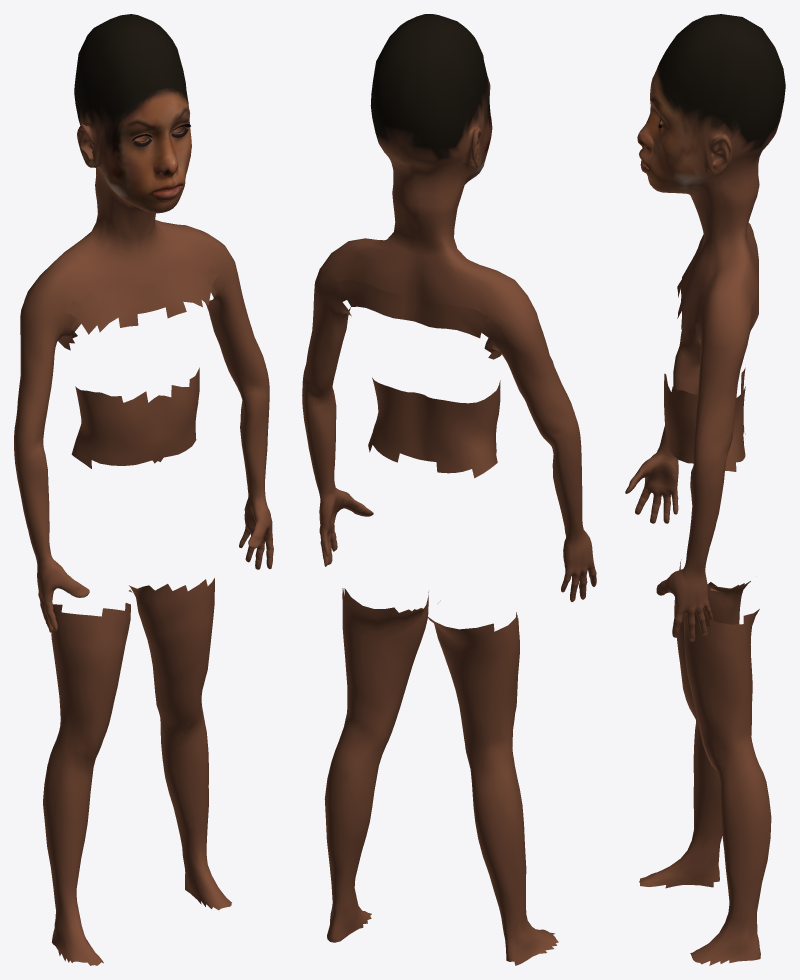
File: streetwaer.glb
The picture shows the model from 3 angles, left to right: view 1: azimuth 30°, elevation 25°; view 2: azimuth 150°, elevation 25°; view 3: azimuth 270°, elevation 25°; orthographic projection. The views are drawn at different scales.
Parts seen in each view (by area): view 1: Skin, TorsoUnderOuterwear; view 2: Skin, TorsoUnderOuterwear; view 3: Skin, TorsoUnderOuterwear.
Part boxes in pixels (x1=…): Skin: x1=14, y1=14, x2=273, y2=965; TorsoUnderOuterwear: x1=58, y1=266, x2=219, y2=468; Skin: x1=302, y1=14, x2=596, y2=965; TorsoUnderOuterwear: x1=337, y1=279, x2=501, y2=478; Skin: x1=625, y1=14, x2=785, y2=965; TorsoUnderOuterwear: x1=664, y1=246, x2=758, y2=471.
Size of the model in its own units: 1.06 by 3.52 by 0.5669.
